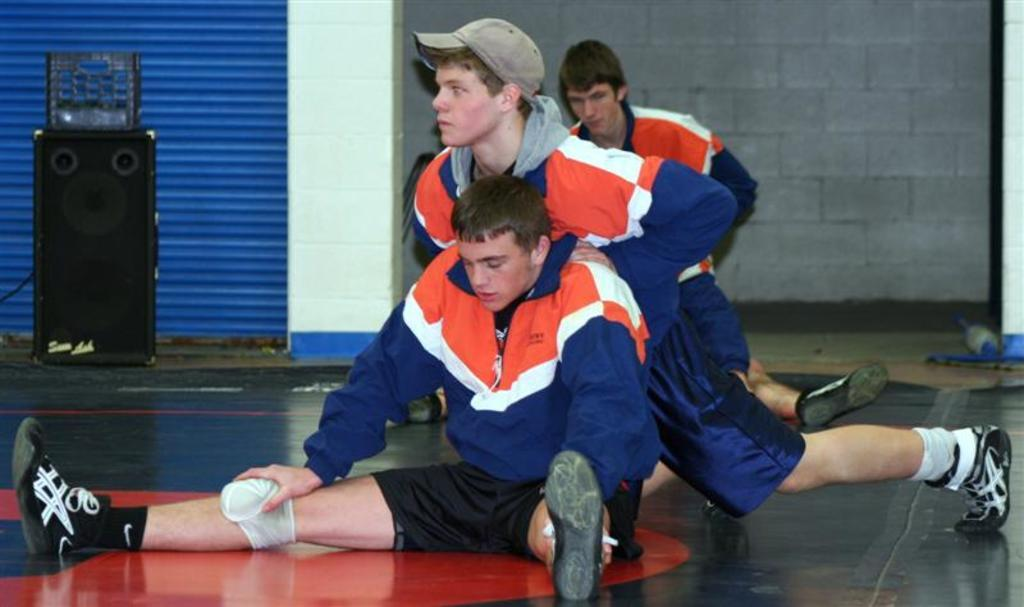Hat: (413, 15, 546, 106)
